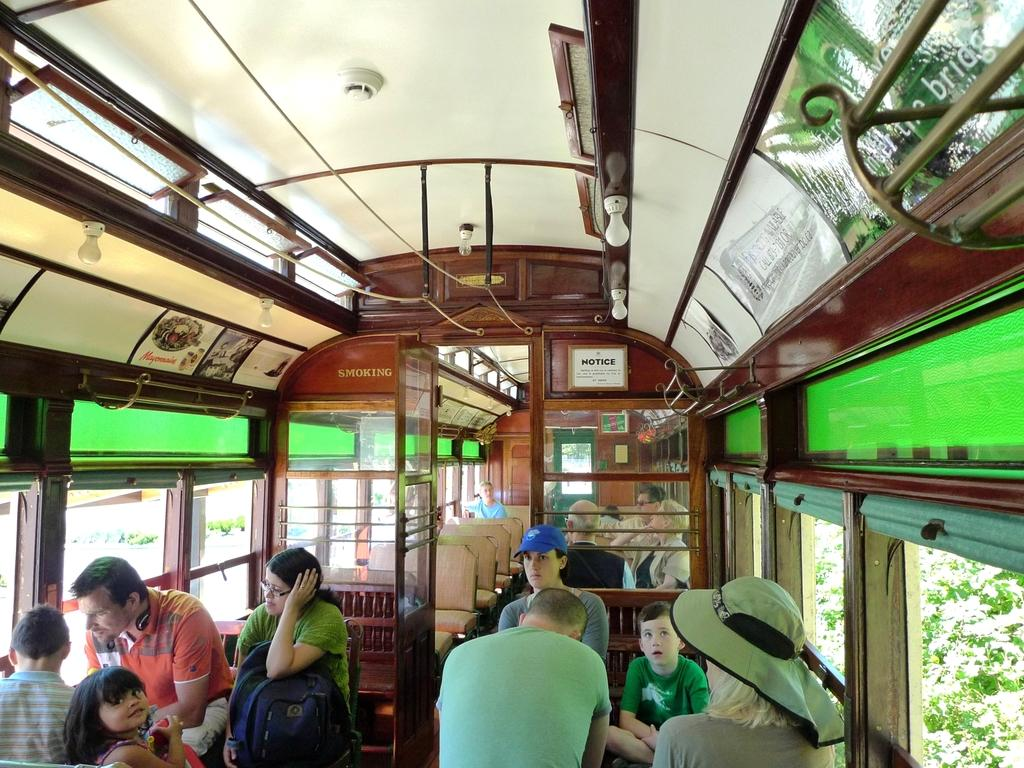Hat: (671, 574, 848, 746), (513, 523, 565, 557)
